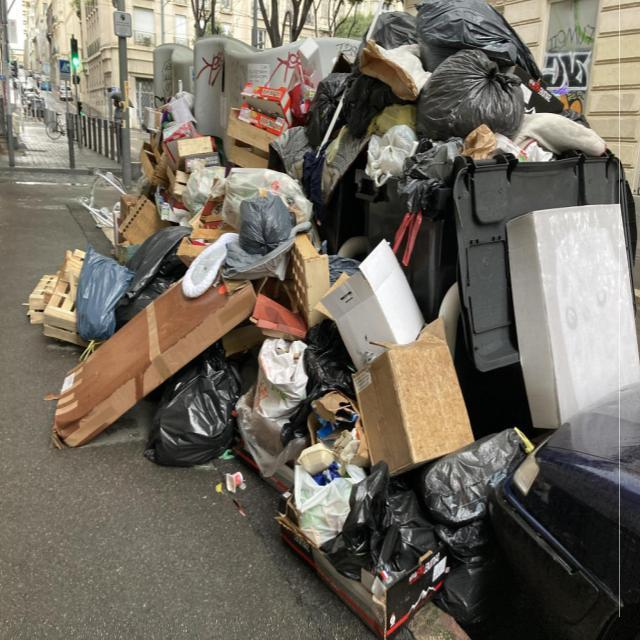Trashbag: (425, 458, 527, 562), (160, 378, 241, 488), (430, 52, 534, 136), (352, 484, 423, 581), (225, 195, 327, 260), (429, 0, 533, 60), (390, 137, 461, 216), (295, 338, 366, 391), (369, 4, 425, 64), (129, 236, 180, 292), (312, 76, 348, 132)
